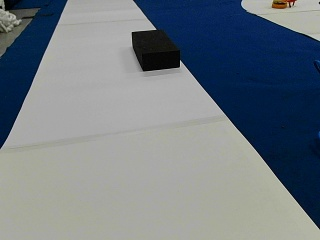block: (130, 29, 178, 70)
